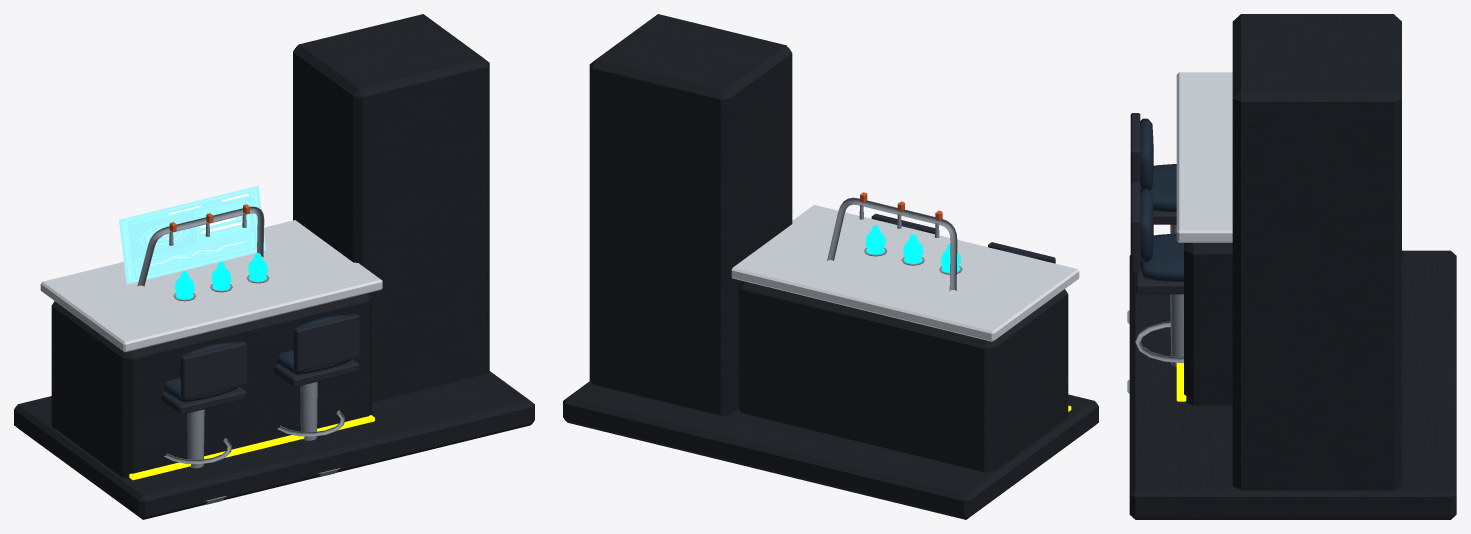
The model's file is lounge_bar_r1_05.glb.
The picture shows the model from 3 angles, left to right: view 1: azimuth 30°, elevation 25°; view 2: azimuth 150°, elevation 25°; view 3: azimuth 270°, elevation 25°; orthographic projection. The views are drawn at different scales.
Parts seen in each view (by area): view 1: Lounge05_CryoChillerGunmetalHull, Lounge05_AerospaceWhiteCounter, Lounge05_OLEDCelestialConsole, Lounge05_CharcoalBolsters, Lounge05_MachinedSteelSiphonAndPedestals, Lounge05_OrbitalNavyBarstools, Lounge05_CyanCryoDrumsAndGlasses, Lounge05_AmberDecantersAndFootrail; view 2: Lounge05_CryoChillerGunmetalHull, Lounge05_AerospaceWhiteCounter, Lounge05_MachinedSteelSiphonAndPedestals, Lounge05_CyanCryoDrumsAndGlasses, Lounge05_CharcoalBolsters; view 3: Lounge05_CryoChillerGunmetalHull, Lounge05_AerospaceWhiteCounter, Lounge05_OrbitalNavyBarstools, Lounge05_CharcoalBolsters, Lounge05_MachinedSteelSiphonAndPedestals.
Part boxes in pixels (left/top/right/bottom): Lounge05_CryoChillerGunmetalHull: left=14, top=14, right=534, bottom=519; Lounge05_AerospaceWhiteCounter: left=40, top=220, right=382, bottom=352; Lounge05_OLEDCelestialConsole: left=119, top=186, right=266, bottom=284; Lounge05_CharcoalBolsters: left=161, top=313, right=359, bottom=414; Lounge05_MachinedSteelSiphonAndPedestals: left=137, top=206, right=345, bottom=504; Lounge05_OrbitalNavyBarstools: left=164, top=314, right=351, bottom=402; Lounge05_CyanCryoDrumsAndGlasses: left=175, top=253, right=267, bottom=299; Lounge05_AmberDecantersAndFootrail: left=129, top=415, right=374, bottom=480; Lounge05_CryoChillerGunmetalHull: left=563, top=14, right=1098, bottom=519; Lounge05_AerospaceWhiteCounter: left=731, top=205, right=1079, bottom=341; Lounge05_MachinedSteelSiphonAndPedestals: left=827, top=197, right=962, bottom=291; Lounge05_CyanCryoDrumsAndGlasses: left=865, top=225, right=960, bottom=272; Lounge05_CharcoalBolsters: left=871, top=213, right=1055, bottom=263; Lounge05_CryoChillerGunmetalHull: left=1129, top=14, right=1456, bottom=519; Lounge05_AerospaceWhiteCounter: left=1176, top=72, right=1232, bottom=242; Lounge05_OrbitalNavyBarstools: left=1140, top=118, right=1183, bottom=281; Lounge05_CharcoalBolsters: left=1130, top=113, right=1183, bottom=294; Lounge05_MachinedSteelSiphonAndPedestals: left=1127, top=224, right=1183, bottom=393.
Size of the model in its own units: 2.38 by 1.94 by 1.36.
Materials: 12 (12 with a texture image).
